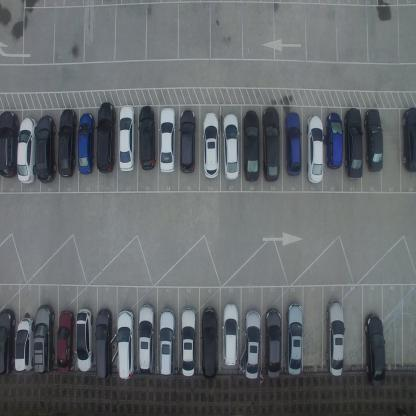car: (364, 312, 386, 389), (32, 302, 54, 375), (95, 100, 116, 174), (343, 106, 363, 180), (17, 116, 38, 184), (57, 108, 77, 179), (36, 113, 56, 184), (262, 105, 280, 183), (326, 299, 344, 376), (116, 309, 135, 381), (94, 306, 112, 382), (221, 112, 240, 183), (285, 302, 303, 376), (242, 108, 260, 182), (244, 308, 262, 381), (0, 110, 19, 179), (137, 304, 155, 376), (364, 108, 384, 172), (306, 114, 324, 185), (201, 305, 218, 380), (202, 111, 220, 181), (264, 306, 281, 379), (14, 316, 35, 375), (158, 105, 176, 173), (158, 308, 175, 380), (138, 104, 156, 172), (75, 306, 93, 373), (178, 108, 196, 174), (118, 104, 135, 173), (56, 309, 74, 374), (284, 111, 302, 176), (77, 112, 95, 176), (180, 307, 196, 378), (0, 306, 16, 376), (400, 107, 416, 174), (325, 111, 343, 170), (222, 302, 238, 366)
